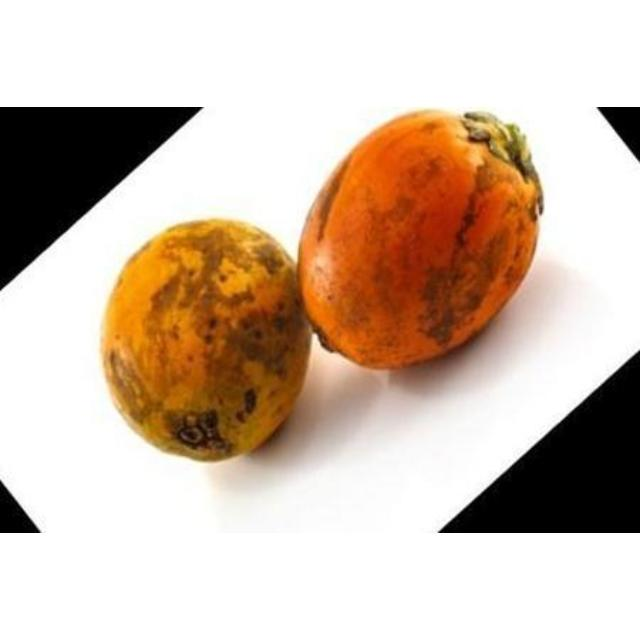good: (299, 113, 543, 372), (100, 219, 314, 465)
